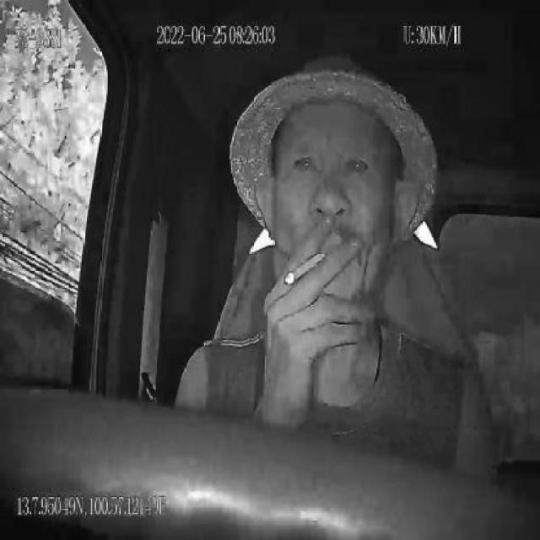smoking: (284, 250, 328, 288)
